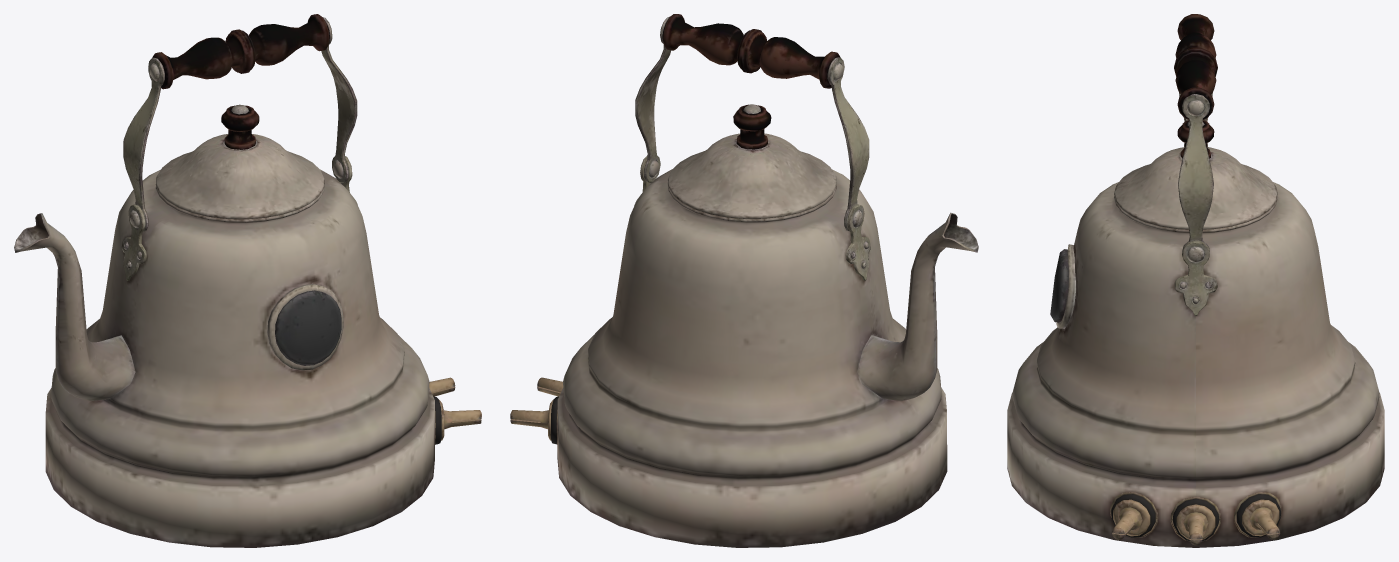
Rendered from vintage_electric_kettle-kcHKOPzi.glb.
3 renders of one model, left to right at view 1: azimuth 30°, elevation 25°; view 2: azimuth 150°, elevation 25°; view 3: azimuth 270°, elevation 25°, orthographic. The views are drawn at different scales.
Visible parts, largest first — view 1: vintage_electric_kettle; view 2: vintage_electric_kettle; view 3: vintage_electric_kettle.
Part boxes in pixels (<box>): vintage_electric_kettle: <box>14,14,481,547</box>; vintage_electric_kettle: <box>510,14,978,547</box>; vintage_electric_kettle: <box>1007,14,1384,547</box>.
Bounding box in the file's own units: 0.3209 × 0.3044 × 0.2478.
2 materials, 2 textured.
